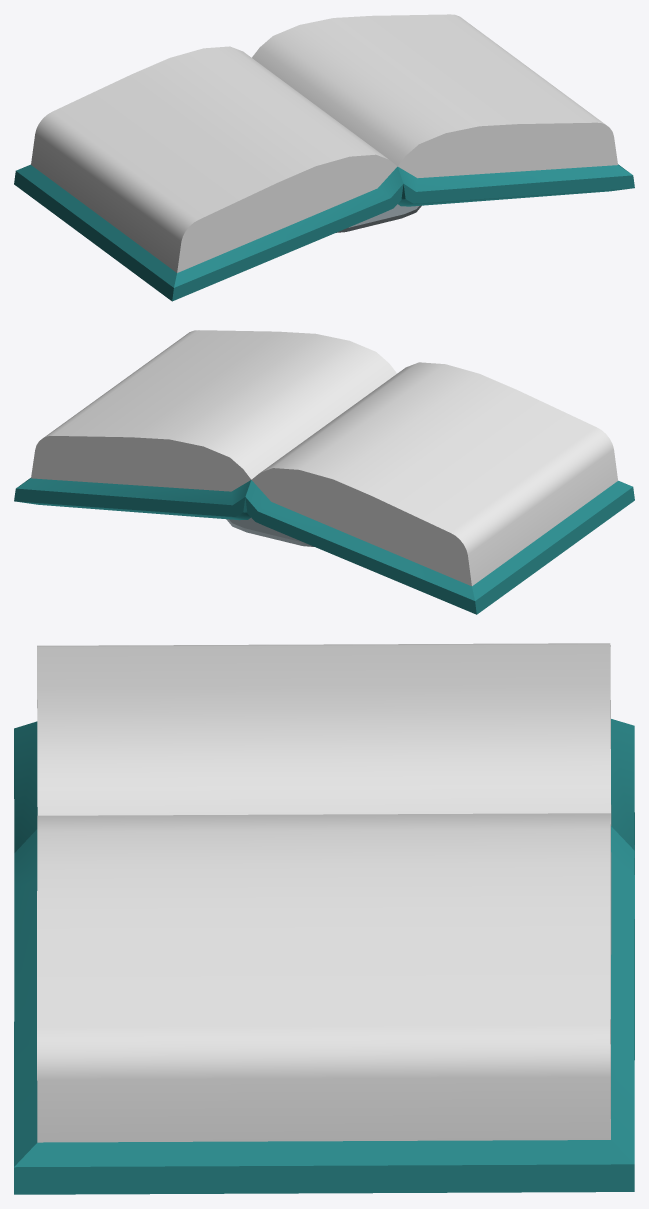
The model's file is kaykit-bookopena.glb.
3 views of the same model, one above another, from view 1: azimuth 30°, elevation 25°; view 2: azimuth 150°, elevation 25°; view 3: azimuth 270°, elevation 25° (orthographic). The views are drawn at different scales.
Visible parts, largest first — view 1: bookOpenA; view 2: bookOpenA; view 3: bookOpenA.
Part boxes in pixels (x1,y1,x2,y2): bookOpenA: [14, 14, 634, 301]; bookOpenA: [14, 330, 634, 614]; bookOpenA: [14, 643, 634, 1194].
Bounding box in the file's own units: 0.7032 × 0.1569 × 0.4166.
